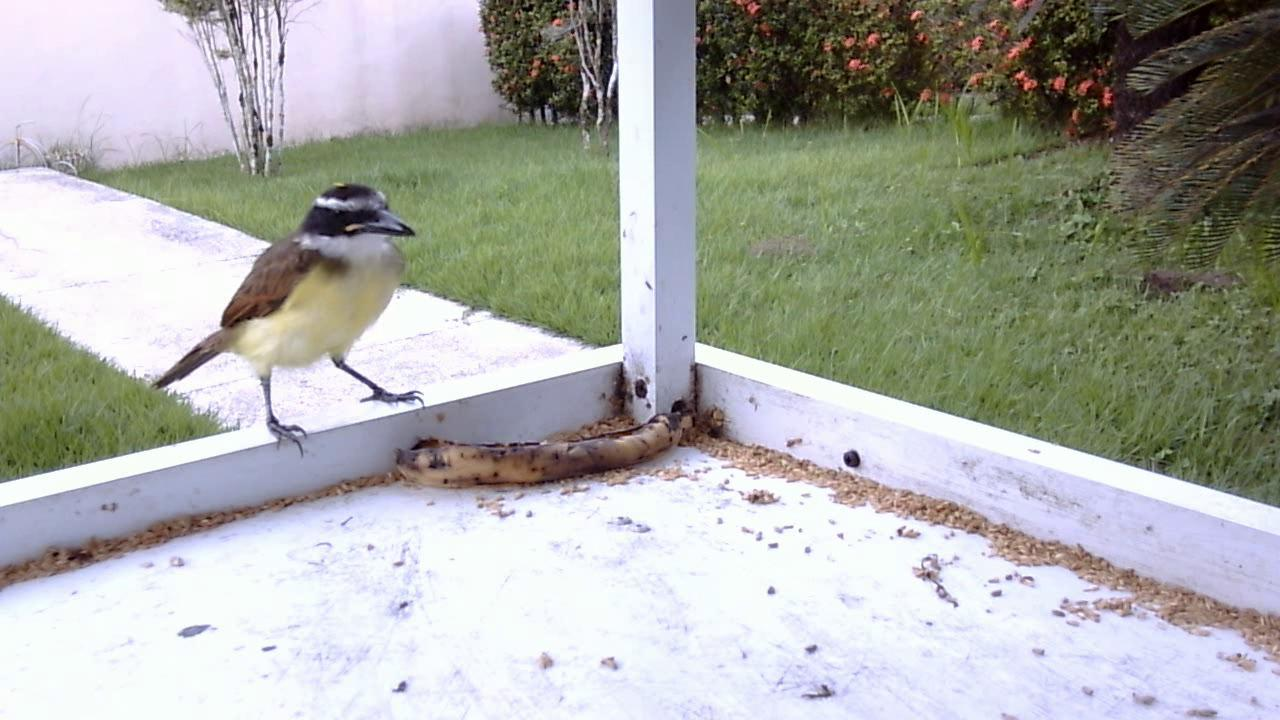bem_te_vi: (148, 175, 431, 471)
